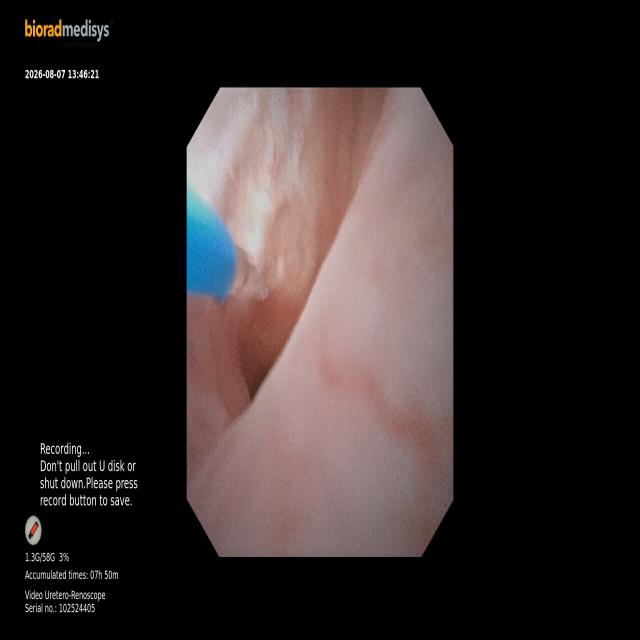laser-fibre: (229, 247, 267, 299)
